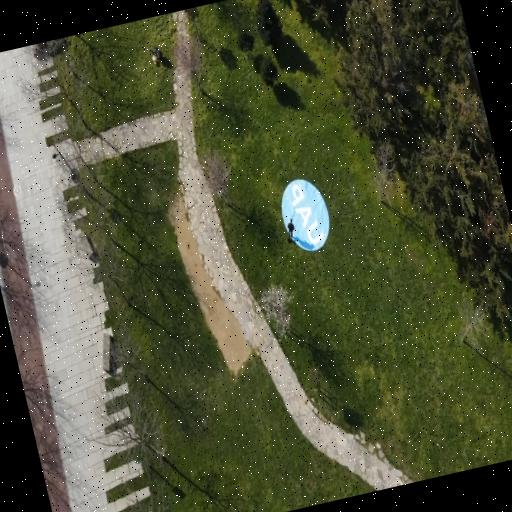UAP: (282, 180, 330, 250)
person: (287, 219, 293, 239)
